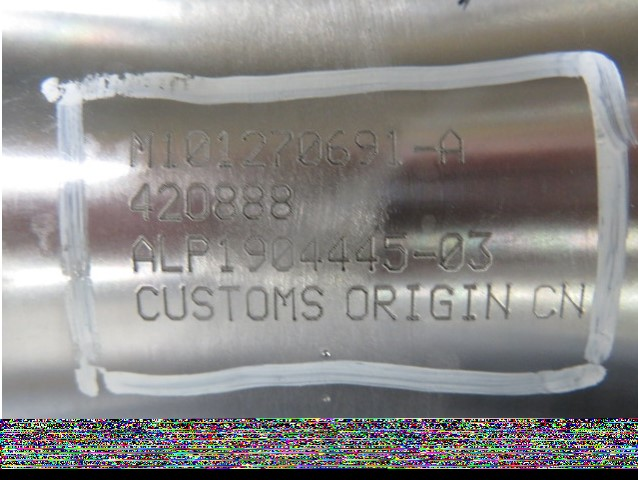character: (464, 222, 499, 274), (180, 124, 214, 172), (483, 277, 518, 323), (125, 229, 157, 279), (380, 229, 411, 278), (126, 124, 157, 172), (157, 228, 186, 279), (237, 126, 268, 173), (154, 177, 184, 225), (184, 176, 213, 225), (558, 275, 588, 322), (294, 125, 325, 170), (342, 280, 372, 326), (212, 176, 240, 225), (428, 280, 459, 324), (240, 176, 268, 224), (269, 228, 296, 277), (437, 228, 465, 275), (378, 125, 407, 170), (324, 230, 353, 275), (268, 123, 294, 173), (372, 278, 399, 326), (268, 180, 297, 224), (271, 283, 300, 326), (300, 280, 327, 326), (211, 232, 239, 276), (241, 231, 269, 275), (160, 283, 190, 324), (128, 178, 154, 225), (353, 230, 379, 277), (186, 228, 211, 276), (351, 126, 378, 170), (403, 278, 427, 327), (438, 127, 468, 166), (216, 281, 244, 322), (325, 126, 351, 170), (532, 279, 558, 322), (190, 281, 216, 324), (157, 124, 180, 172), (297, 235, 324, 275), (214, 126, 237, 172), (244, 283, 271, 322), (459, 280, 483, 323), (134, 283, 160, 322), (410, 246, 438, 265), (411, 141, 438, 159)
